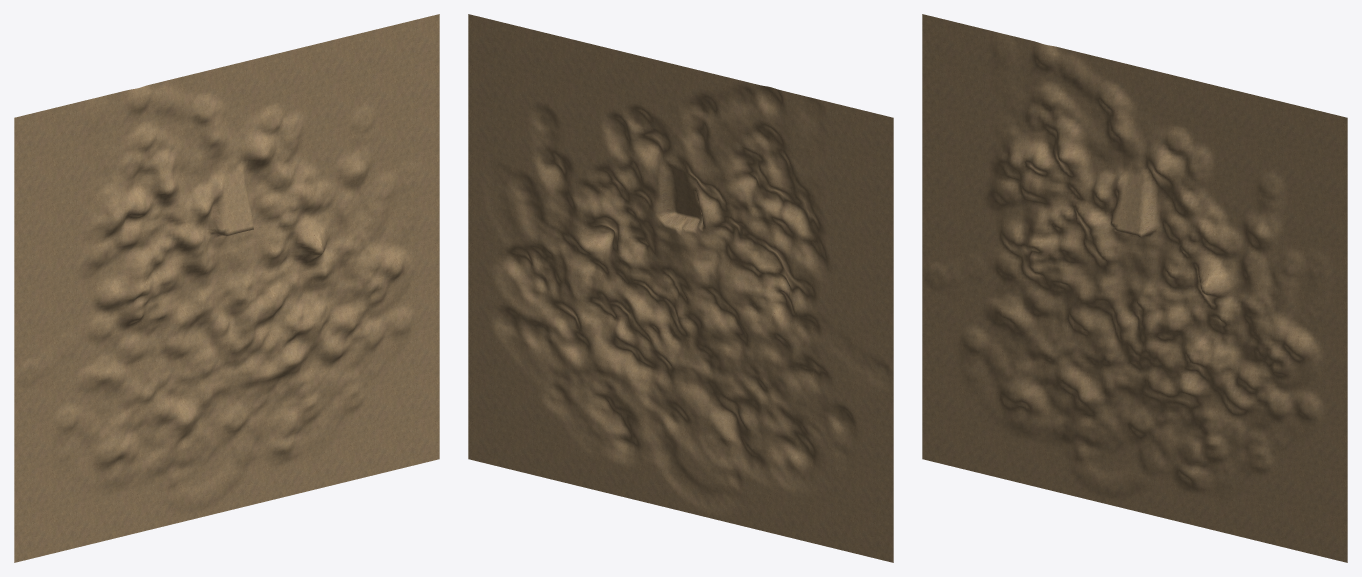
Rendered from terrain.obj.
3 renders of one model, left to right at view 1: azimuth 30°, elevation 25°; view 2: azimuth 150°, elevation 25°; view 3: azimuth 330°, elevation 25°, orthographic.
Visible parts, largest first — view 1: Plane001; view 2: Plane001; view 3: Plane001.
Boxes of the visible parts, x1,y1,x2,y2 form: Plane001: (14, 14, 439, 562); Plane001: (468, 14, 893, 562); Plane001: (922, 14, 1347, 562).
Size of the model in its own units: 3937 by 3937 by 210.
Materials: 1 (1 with a texture image).
